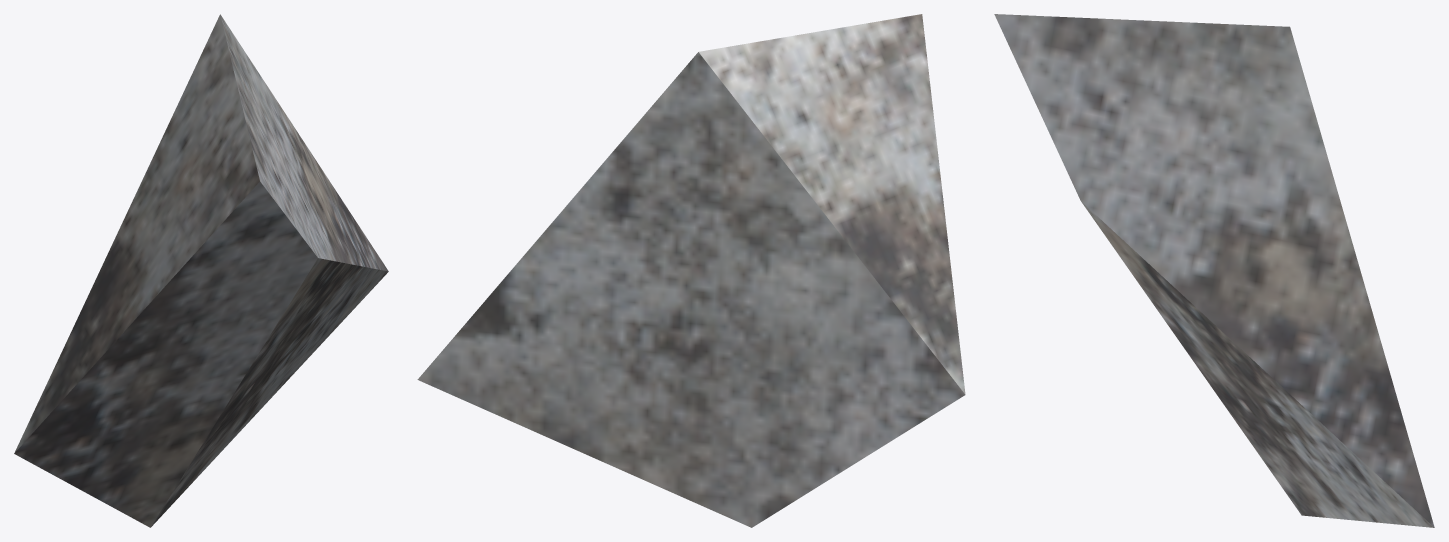
File: Asteroid_Large_001_02_001_03_021.fbx
The picture shows the model from 3 angles, left to right: view 1: azimuth 30°, elevation 25°; view 2: azimuth 150°, elevation 25°; view 3: azimuth 270°, elevation 25°; orthographic projection. The views are drawn at different scales.
Parts seen in each view (by area): view 1: Asteroid_Large_001_02_001_03_021; view 2: Asteroid_Large_001_02_001_03_021; view 3: Asteroid_Large_001_02_001_03_021.
Part boxes in pixels (x1,y1,x2,y2): Asteroid_Large_001_02_001_03_021: (14,14,388,527); Asteroid_Large_001_02_001_03_021: (417,14,965,527); Asteroid_Large_001_02_001_03_021: (994,14,1434,527).
Bounding box in the file's own units: 4.38 × 4.31 × 3.3.
